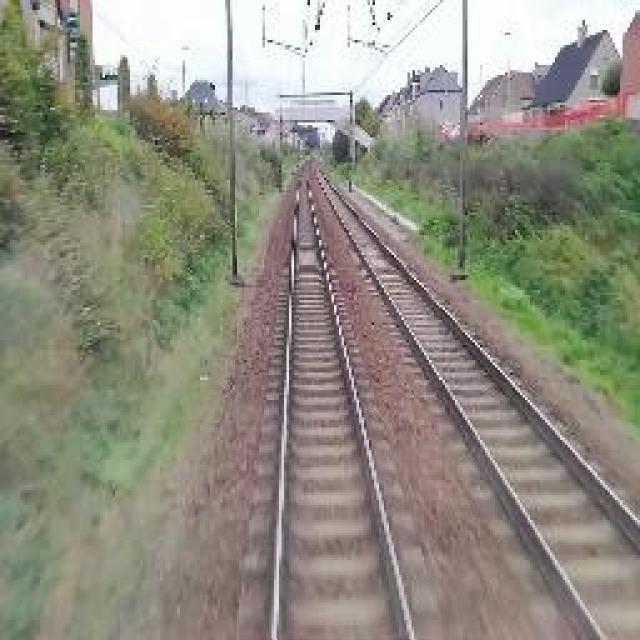rail: (238, 166, 442, 640)
